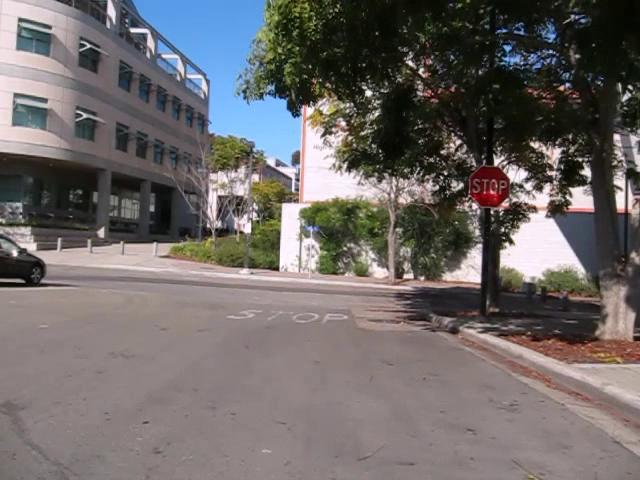stop: (467, 164, 510, 208)
